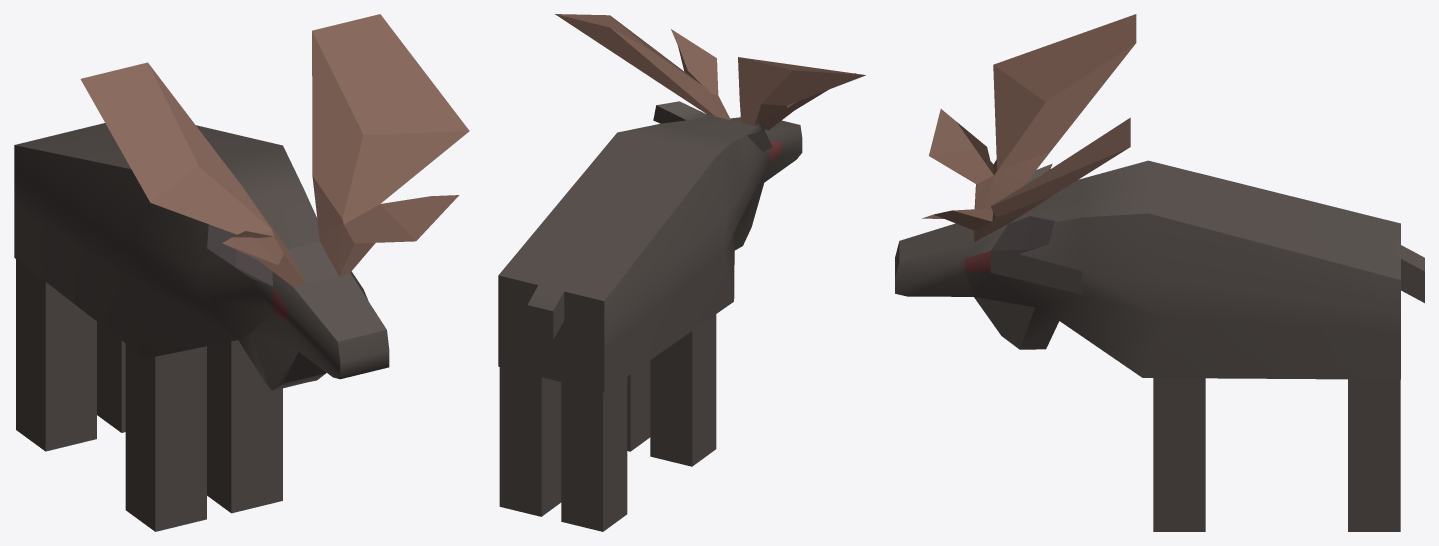
The model's file is Moose.fbx.
3 views of the same model, side by side, from view 1: azimuth 30°, elevation 25°; view 2: azimuth 150°, elevation 25°; view 3: azimuth 270°, elevation 25° (orthographic). The views are drawn at different scales.
Parts seen in each view (by area): view 1: Moose; view 2: Moose; view 3: Moose.
Boxes of the visible parts, x1,y1,x2,y2 form: Moose: (14, 14, 469, 531); Moose: (498, 14, 865, 531); Moose: (895, 14, 1424, 531).
Size of the model in its own units: 10.36 by 14.97 by 16.87.
